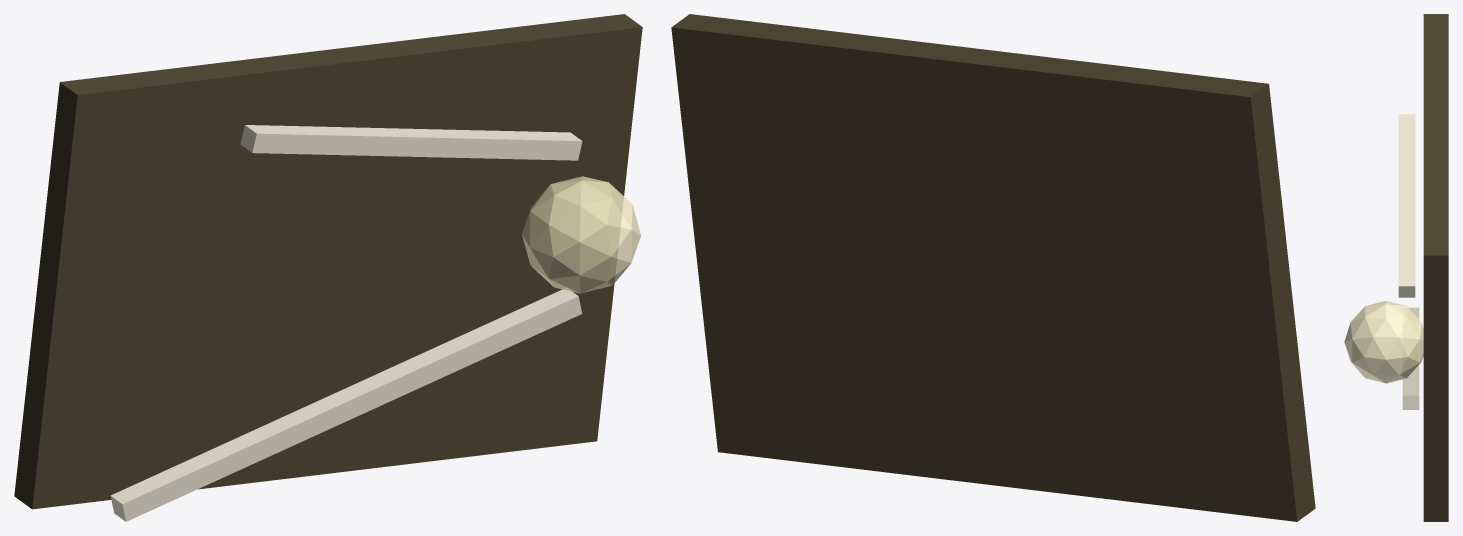
Rendered from 02_world_prop_polish.glb.
3 renders of one model, left to right at view 1: azimuth 30°, elevation 25°; view 2: azimuth 150°, elevation 25°; view 3: azimuth 270°, elevation 25°, orthographic. The views are drawn at different scales.
Parts seen in each view (by area): view 1: object_overlay_plate, edge_wear_a, glow_socket, edge_wear_b; view 2: object_overlay_plate; view 3: object_overlay_plate, glow_socket, edge_wear_b, edge_wear_a.
Boxes of the visible parts, x1,y1,x2,y2 form: object_overlay_plate: (14,14,642,509); edge_wear_a: (110,288,582,521); glow_socket: (522,176,641,293); edge_wear_b: (240,125,582,160); object_overlay_plate: (671,14,1315,521); object_overlay_plate: (1423,14,1448,521); glow_socket: (1344,300,1423,383); edge_wear_b: (1398,114,1415,297); edge_wear_a: (1402,307,1419,409).
Bounding box in the file's own units: 1.18 × 0.8738 × 0.25.
